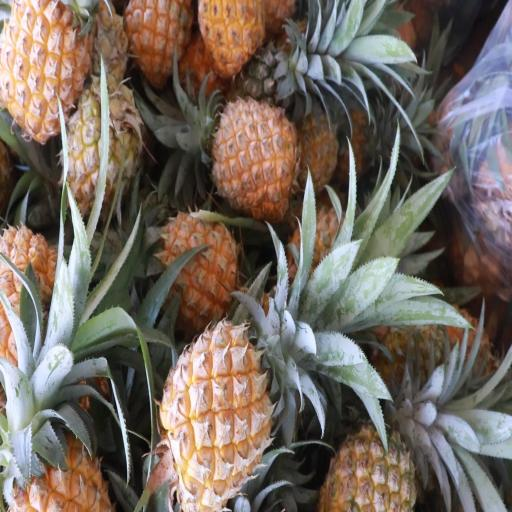------------------------------: (63, 82, 140, 218), (318, 407, 415, 512)
Pineapple - v8 v1: (157, 321, 271, 499), (1, 0, 85, 138), (8, 397, 108, 512), (0, 222, 61, 384), (209, 102, 295, 214), (157, 214, 239, 325), (120, 0, 193, 80), (194, 0, 264, 73)
